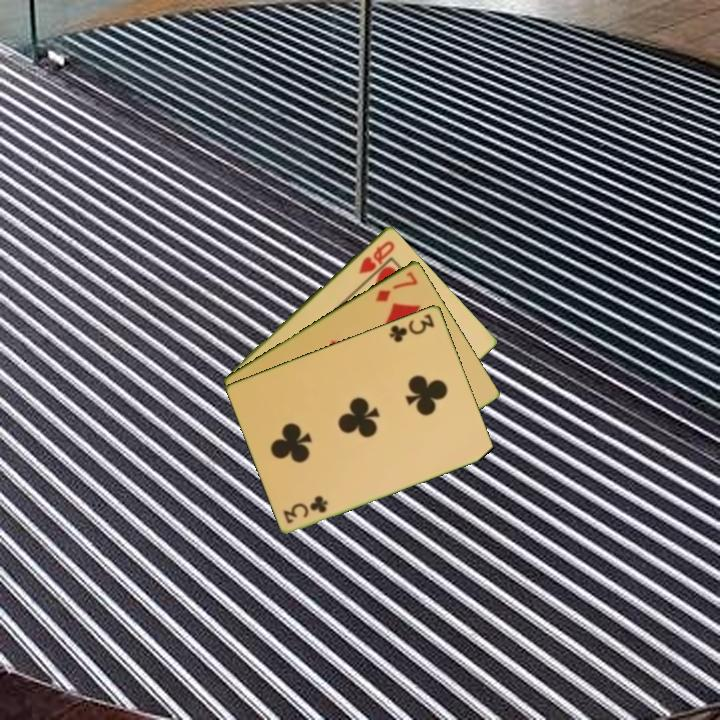3c: (386, 310, 438, 345), (280, 493, 331, 526)
7d: (372, 267, 421, 304)
Qh: (355, 237, 398, 277)
